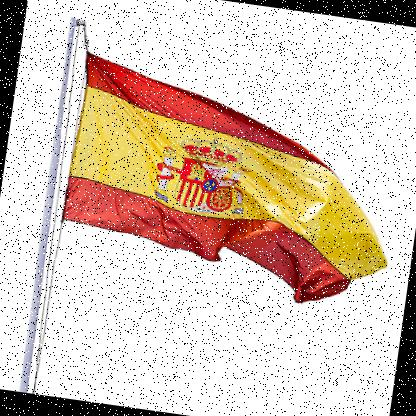es: (55, 49, 414, 317)
